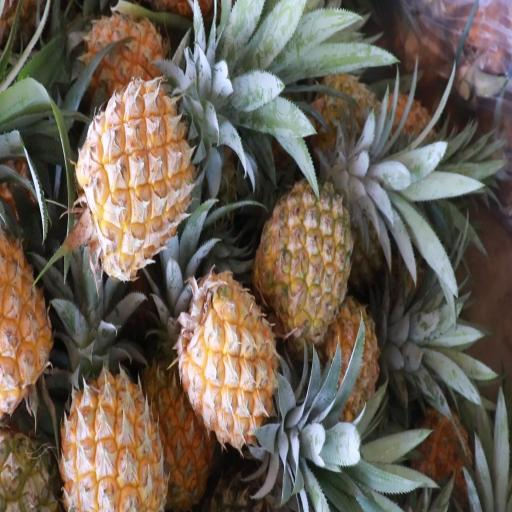------------------------------: (260, 177, 352, 337)
Pineapple - v8 v1: (81, 81, 192, 272), (178, 275, 276, 440), (64, 361, 163, 512), (144, 353, 216, 503)
